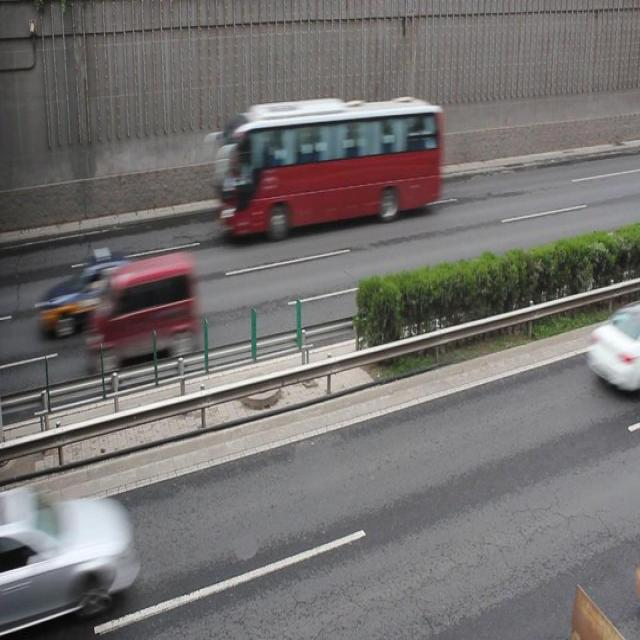car: (0, 486, 130, 627), (39, 245, 149, 337), (587, 311, 640, 385)
truck: (89, 254, 197, 366)
van: (216, 96, 442, 242)
